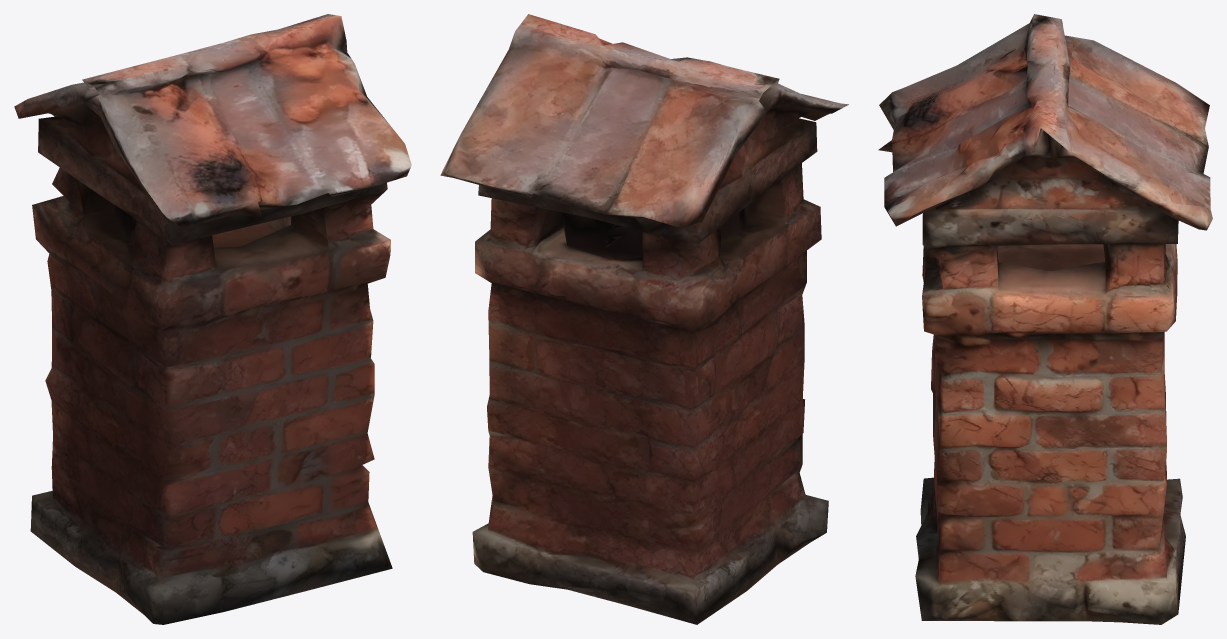
The model's file is kh_chimney.glb.
The picture shows the model from 3 angles, left to right: view 1: azimuth 30°, elevation 25°; view 2: azimuth 150°, elevation 25°; view 3: azimuth 270°, elevation 25°; orthographic projection.
Visible parts, largest first — view 1: tripo_node_e332efd9-3fb3-49bf-9067-ada67faa5744; view 2: tripo_node_e332efd9-3fb3-49bf-9067-ada67faa5744; view 3: tripo_node_e332efd9-3fb3-49bf-9067-ada67faa5744.
Boxes of the visible parts, left/top/right/bottom form: tripo_node_e332efd9-3fb3-49bf-9067-ada67faa5744: left=14, top=14, right=411, bottom=624; tripo_node_e332efd9-3fb3-49bf-9067-ada67faa5744: left=440, top=14, right=848, bottom=624; tripo_node_e332efd9-3fb3-49bf-9067-ada67faa5744: left=878, top=14, right=1212, bottom=624.
Bounding box in the file's own units: 0.5253 × 1 × 0.6063.
1 material, 1 textured.
